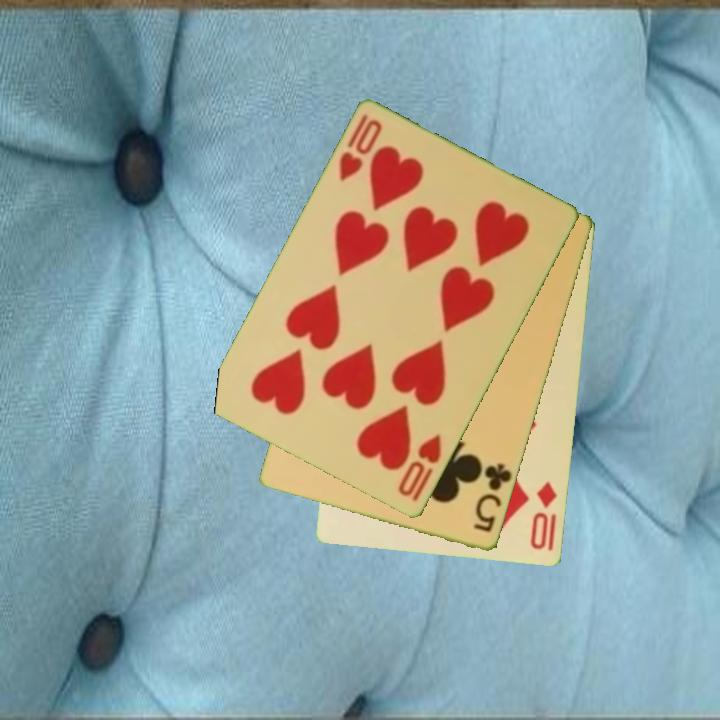10d: (527, 478, 560, 553)
10h: (394, 430, 445, 505), (335, 111, 386, 185)
5c: (470, 460, 515, 536)
